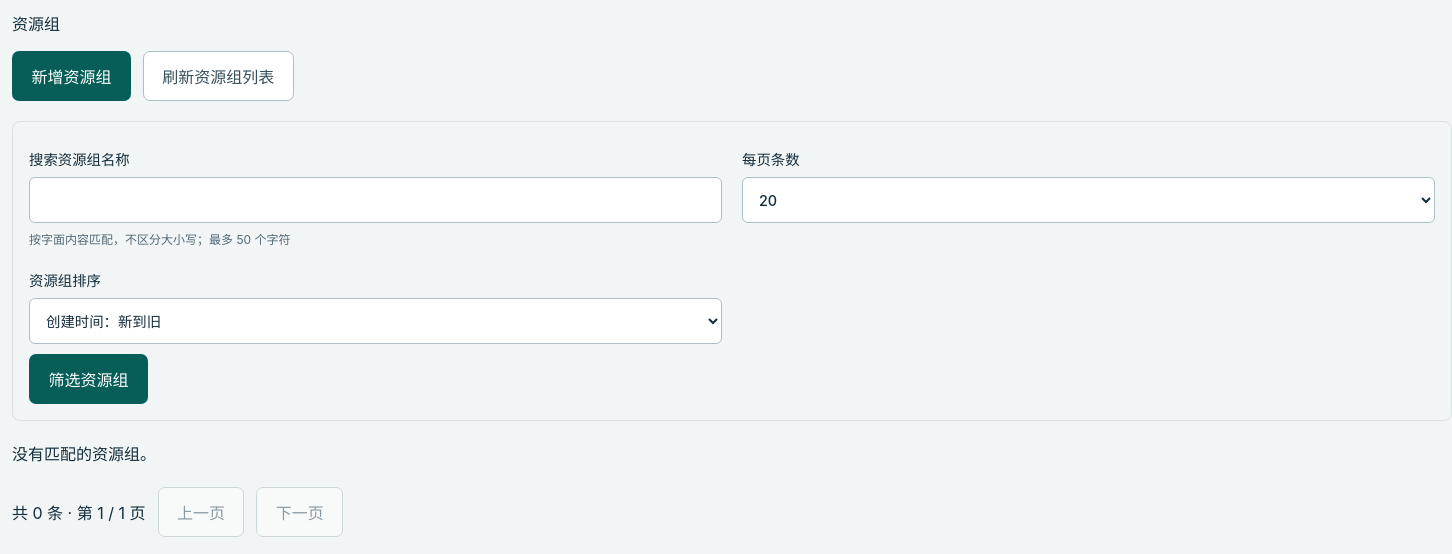
Scenario: durable resource groups › shows genuine empty results and result-too-large errors
The width and height of the screenshot is (1452, 554).
Expected: the text "没有匹配的资源组。" is shown, [12,444,156,464]
What coordinates should you click on to do the following:
click the button "刷新资源组列表"
I would click on:
 (218, 76)
Its box is [143,51,294,101].
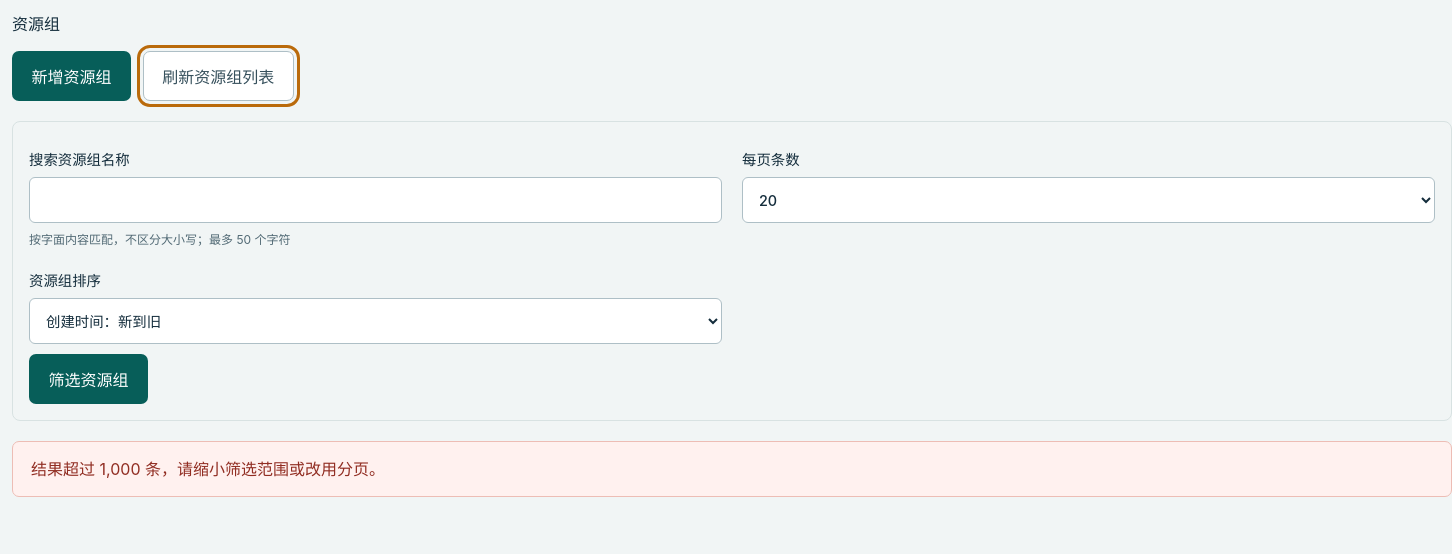
Expected: the text "结果超过 1,000 条，请缩小筛选范围或改用分页。" is shown, [12,441,1451,497]
